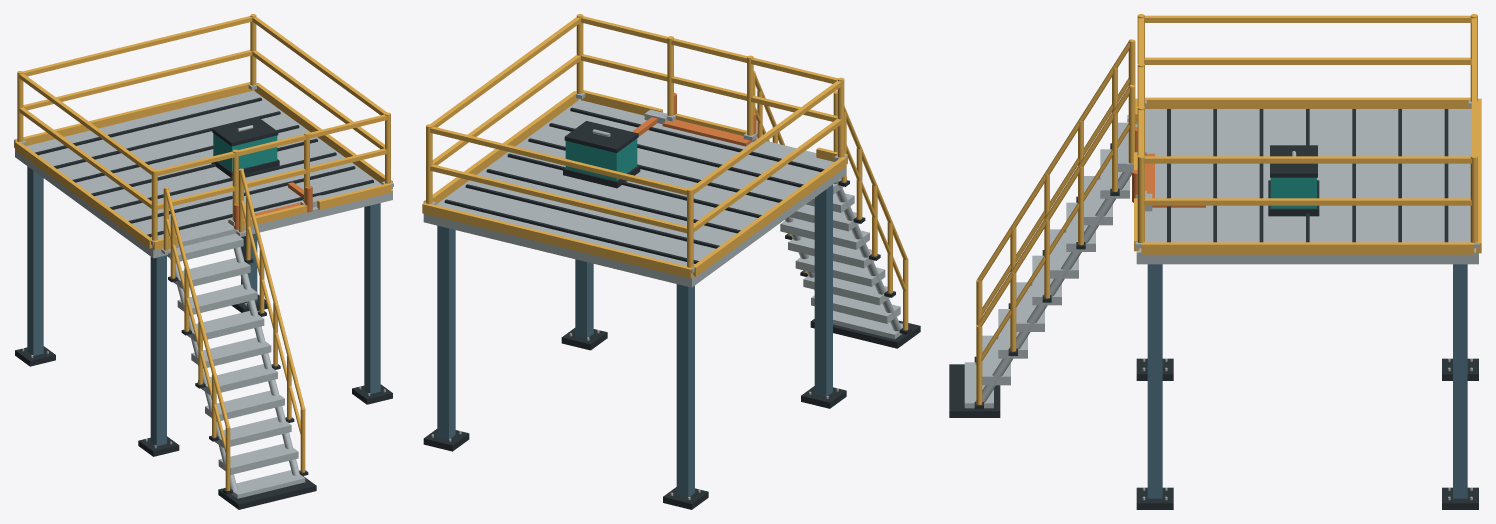
The model's file is service_platform.glb.
3 renders of one model, left to right at view 1: azimuth 30°, elevation 25°; view 2: azimuth 150°, elevation 25°; view 3: azimuth 270°, elevation 25°, orthographic. The views are drawn at different scales.
Visible parts, largest first — view 1: service_platform__deck, service_platform__stairs, service_platform__rails_fixed, service_platform__tool_box, service_platform__rail_removable, service_platform__edge_warn; view 2: service_platform__deck, service_platform__rails_fixed, service_platform__stairs, service_platform__tool_box, service_platform__rail_removable, service_platform__edge_warn; view 3: service_platform__deck, service_platform__stairs, service_platform__rails_fixed, service_platform__tool_box, service_platform__edge_warn.
Boxes of the visible parts, left/top/right/bottom form: service_platform__deck: left=14, top=82, right=392, bottom=456; service_platform__stairs: left=161, top=168, right=316, bottom=509; service_platform__rails_fixed: left=14, top=14, right=393, bottom=245; service_platform__tool_box: left=211, top=117, right=279, bottom=177; service_platform__rail_removable: left=238, top=134, right=307, bottom=227; service_platform__edge_warn: left=228, top=185, right=312, bottom=229; service_platform__deck: left=422, top=90, right=847, bottom=509; service_platform__rails_fixed: left=423, top=14, right=847, bottom=273; service_platform__stairs: left=753, top=70, right=920, bottom=348; service_platform__tool_box: left=563, top=121, right=640, bottom=188; service_platform__rail_removable: left=671, top=38, right=747, bottom=135; service_platform__edge_warn: left=662, top=92, right=756, bottom=146; service_platform__deck: left=1134, top=97, right=1481, bottom=509; service_platform__stairs: left=949, top=39, right=1136, bottom=417; service_platform__rails_fixed: left=1135, top=14, right=1479, bottom=248; service_platform__tool_box: left=1268, top=145, right=1319, bottom=216; service_platform__edge_warn: left=1132, top=127, right=1154, bottom=202.
Size of the model in its own units: 3.76 by 4.19 by 5.76.
